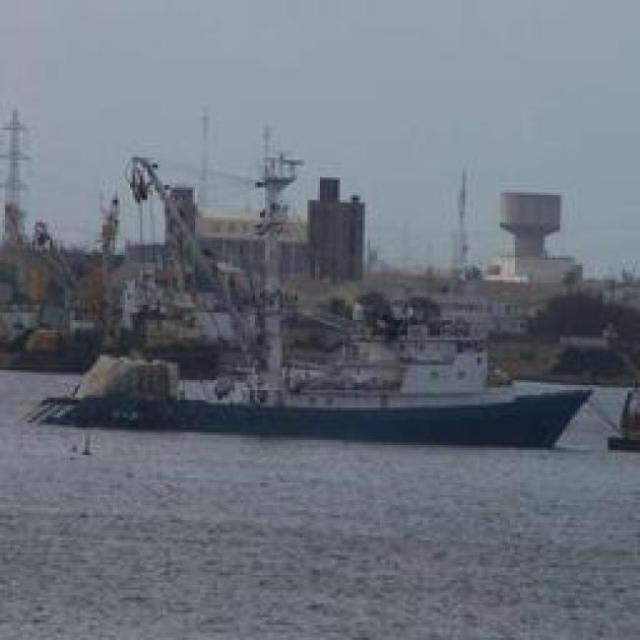boat: (42, 332, 595, 458)
